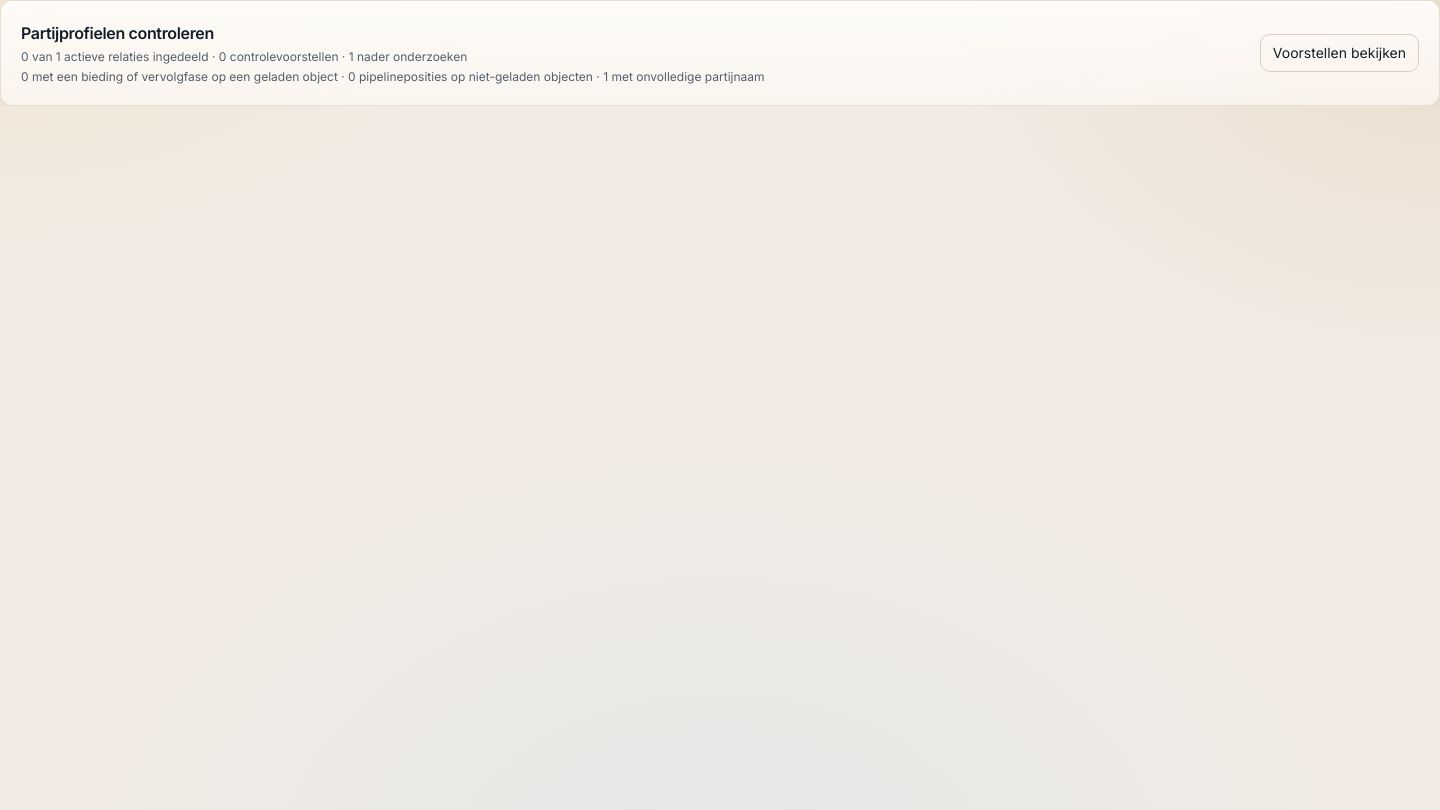
it: A15 CRM read-only review UI › toont de bestaande primaire contactpersoon wanneer er geen bedrijfsnaam is
The width and height of the screenshot is (1440, 810).
Click the button "Voorstellen bekijken".
click(1339, 53)  # box 1260,34 -> 1419,72
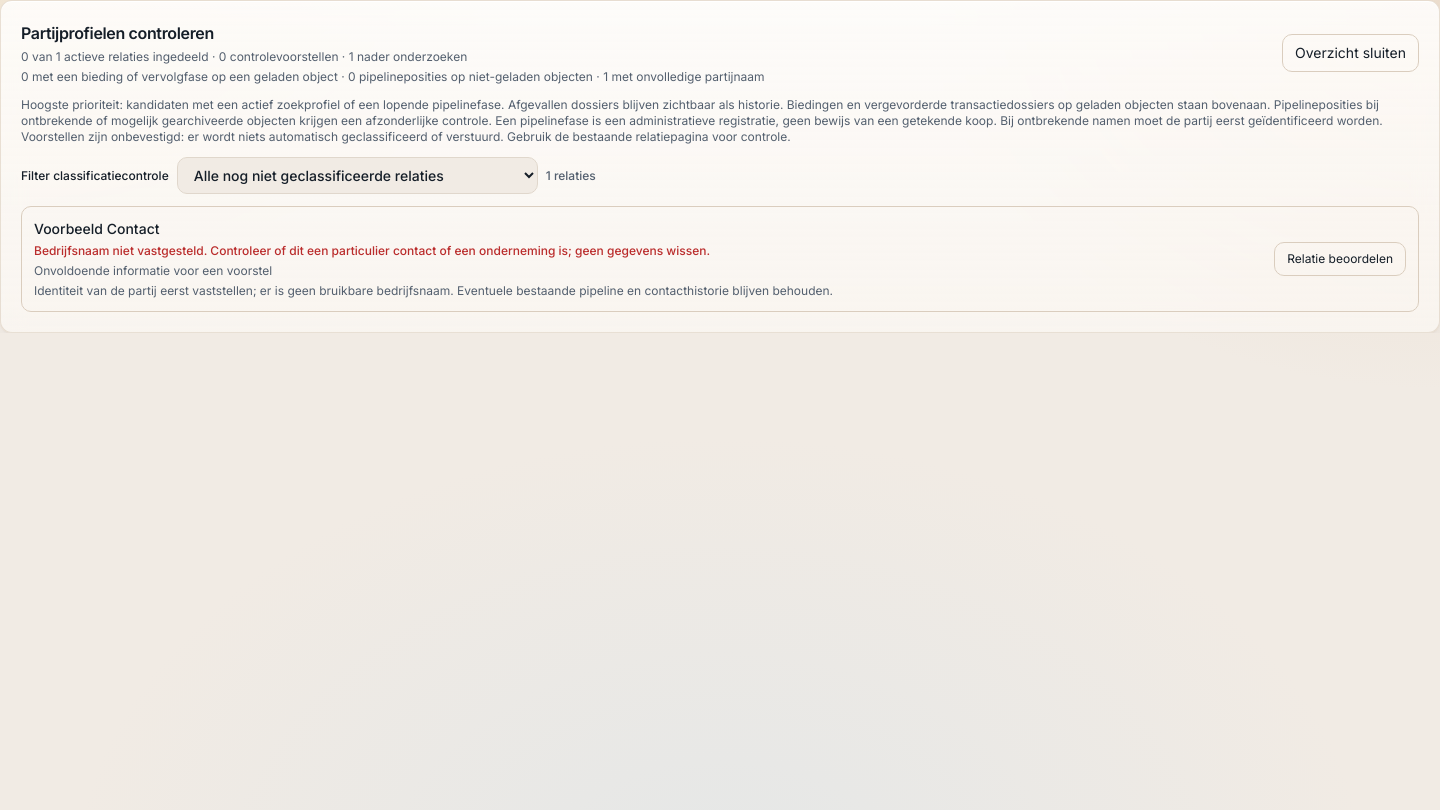
expect the text "Voorbeeld Contact" is shown: met, box 34,220 -> 160,237
expect the text "particulier contact of een onderneming" is shown: met, box 34,243 -> 710,258
expect the text "Onvoldoende informatie voor een voorstel" is shown: met, box 34,263 -> 272,278
